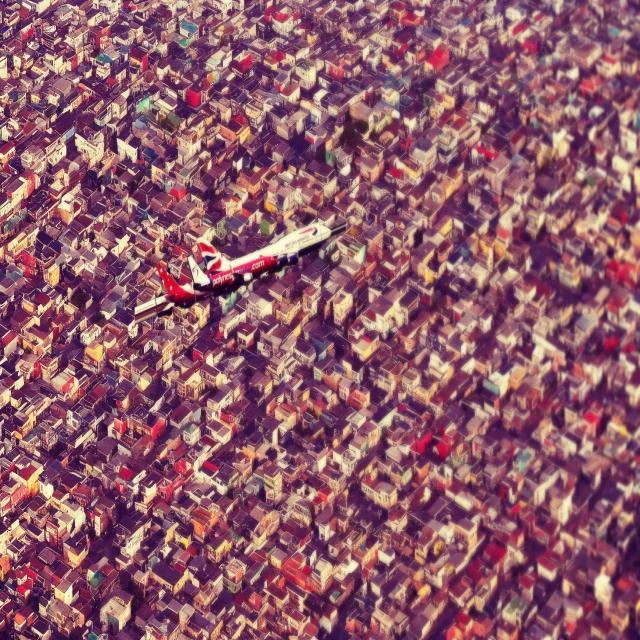airplane: (186, 212, 347, 294)
